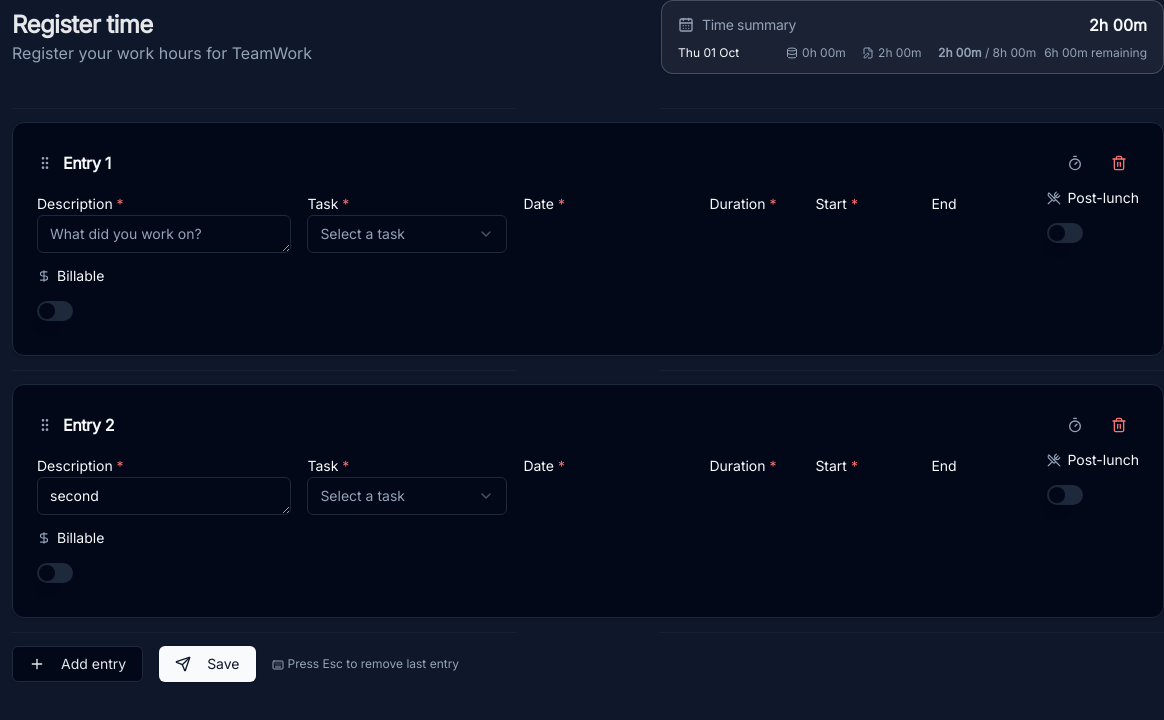
Test: WorkTimeForm partial registration › saves nothing when the first row is invalid and surfaces the error (AC6)
Expected: the text box named "entries.1.description" is shown, [37,477,291,515]
Click the submit button.
click(207, 664)  # box [159,646,256,682]
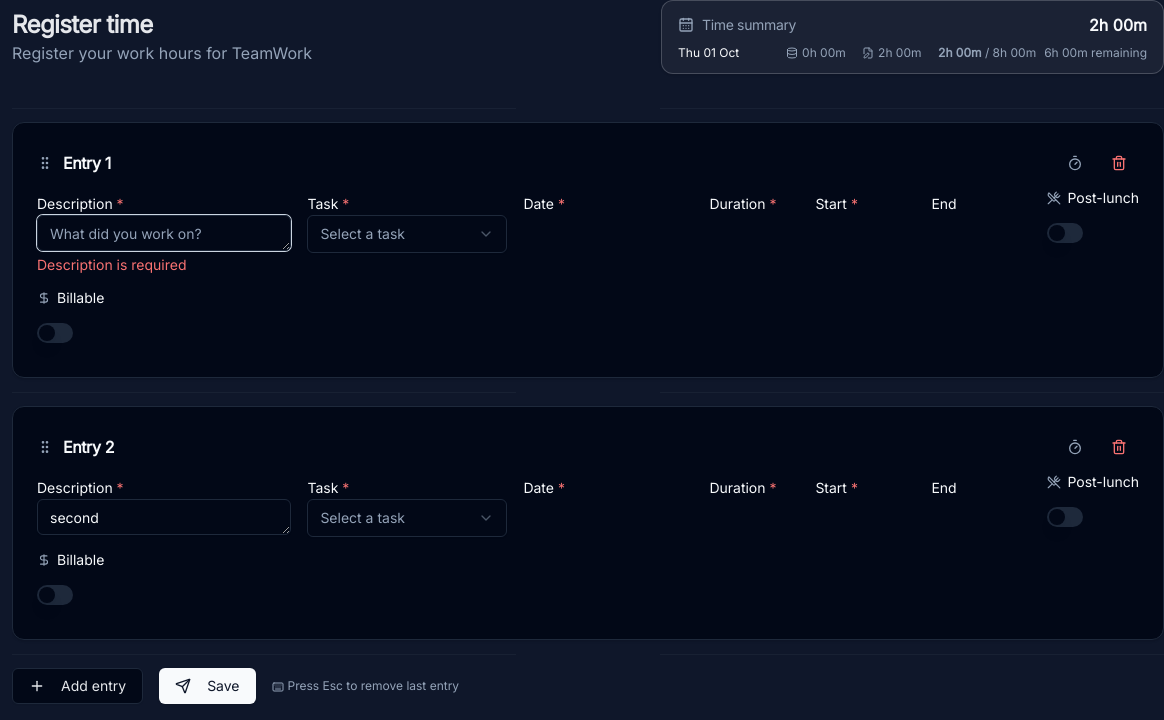
Expected: the number of text boxes is 2, [37,215,291,251]; [37,499,291,535]
Now the text "Description is required" is shown, box [37,256,186,273]
